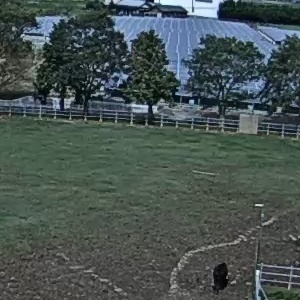cow: (193, 250, 236, 300)
